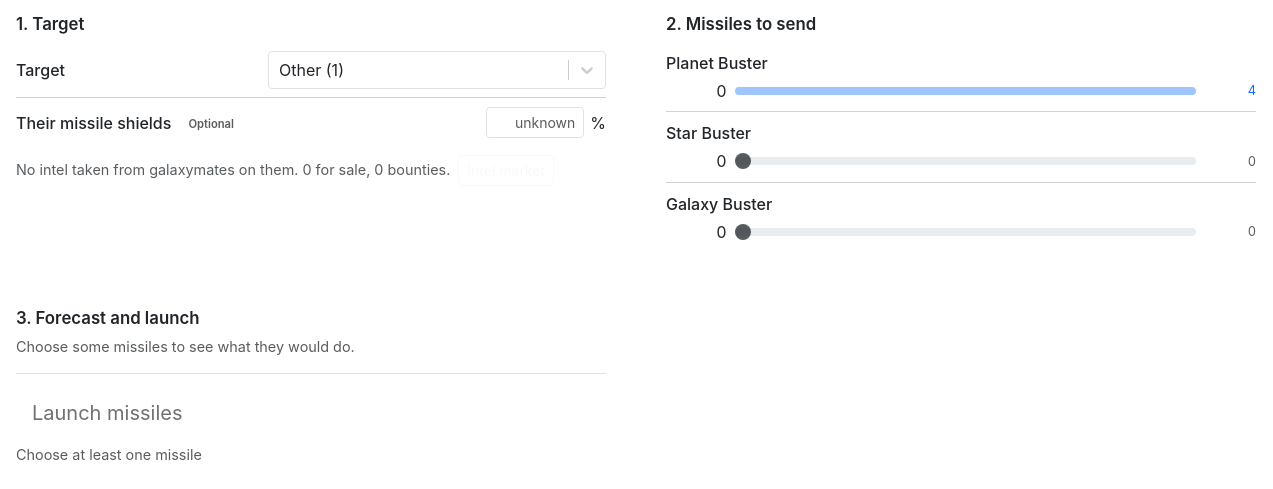
Test case: a missile slider stops at what you have
Set the slider labelled "Planet Buster" to "5" at (965, 90), box [735,78,1196,102]
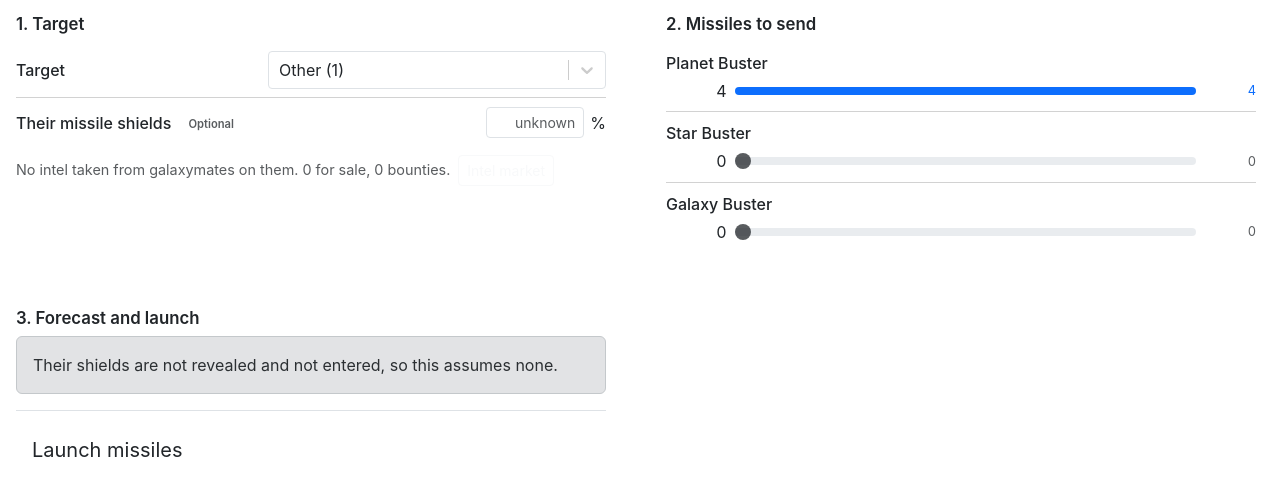
Now the slider labelled "Planet Buster" holds "4", box [735,78,1196,102]
Now the button "Launch missiles" is enabled, box [16,427,198,473]
